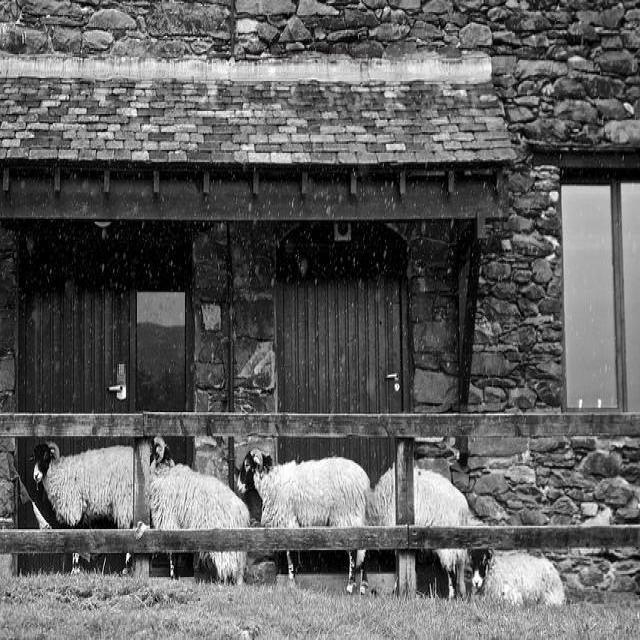Sheep: (237, 451, 372, 598), (152, 438, 252, 584), (30, 442, 134, 577), (367, 463, 486, 531), (468, 550, 566, 607)
